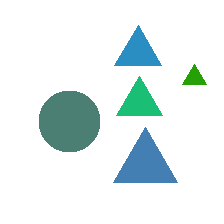circle: (39, 91, 99, 151)
triangle: (113, 127, 177, 182), (114, 25, 161, 65), (116, 76, 162, 115), (182, 64, 206, 84)
